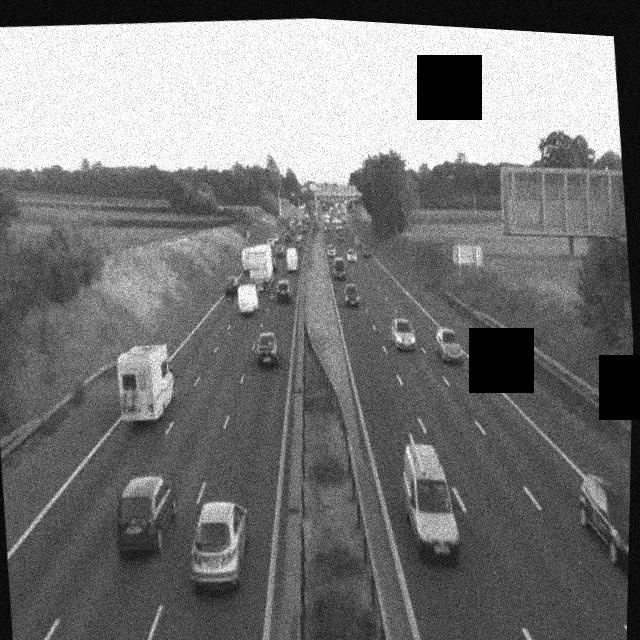car: (398, 439, 463, 564), (184, 498, 253, 593), (110, 472, 181, 558), (574, 468, 630, 575), (434, 325, 465, 363), (253, 331, 281, 368), (390, 313, 416, 351), (273, 279, 292, 305), (222, 272, 241, 296), (343, 281, 360, 307), (332, 257, 347, 279), (273, 240, 284, 258), (326, 243, 338, 258), (345, 247, 357, 262), (360, 242, 371, 257)
truck: (111, 340, 178, 427), (240, 240, 272, 283), (234, 280, 260, 315), (284, 244, 299, 272)
